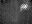person: (21, 2, 28, 9)
